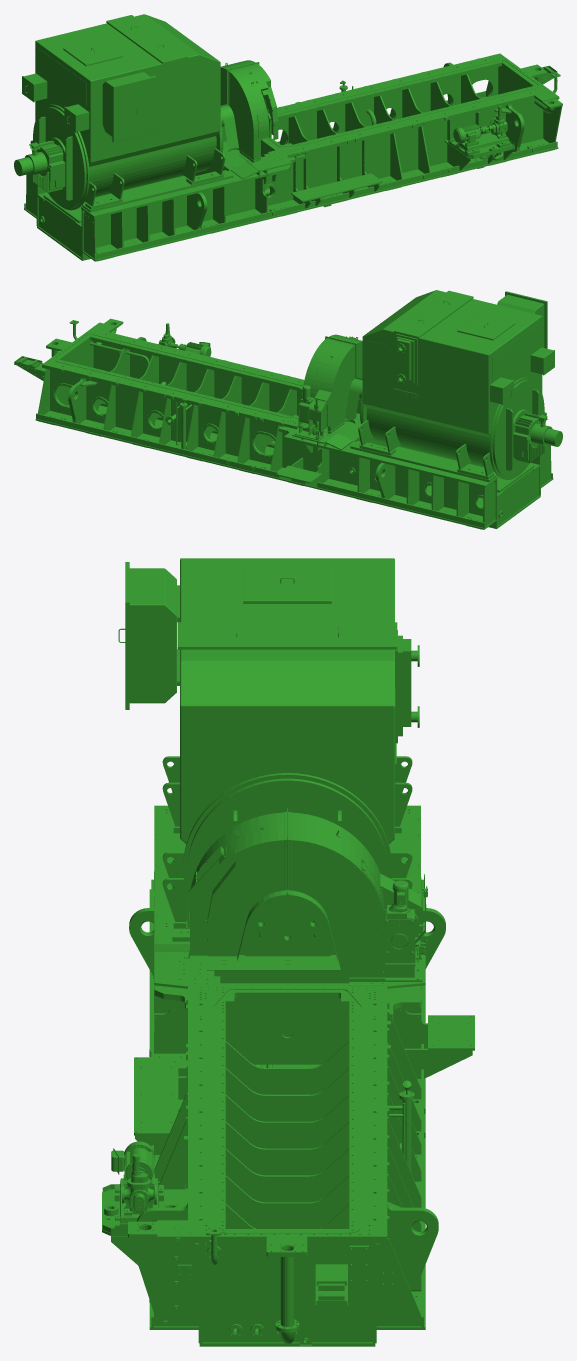
File: Generator&CommonBed.glb
The picture shows the model from 3 angles, top to bottom: view 1: azimuth 30°, elevation 25°; view 2: azimuth 150°, elevation 25°; view 3: azimuth 270°, elevation 25°; orthographic projection. The views are drawn at different scales.
Visible parts, largest first — view 1: CommonBed, Generator, CoverFlywheel, LOPrimmingPump; view 2: CommonBed, Generator, CoverFlywheel, TurningDevice, LOPrimmingPump; view 3: CommonBed, Generator, CoverFlywheel, TurningDevice, LOPrimmingPump.
Boxes of the visible parts, bbox=[...] form: CommonBed: bbox=[24, 53, 562, 261]; Generator: bbox=[14, 14, 225, 210]; CoverFlywheel: bbox=[220, 60, 278, 164]; LOPrimmingPump: bbox=[453, 105, 509, 151]; CommonBed: bbox=[14, 318, 553, 529]; Generator: bbox=[358, 290, 562, 479]; CoverFlywheel: bbox=[302, 334, 362, 435]; TurningDevice: bbox=[294, 385, 325, 440]; LOPrimmingPump: bbox=[158, 323, 211, 356]; CommonBed: bbox=[102, 805, 474, 1346]; Generator: bbox=[118, 558, 419, 956]; CoverFlywheel: bbox=[184, 808, 422, 985]; TurningDevice: bbox=[383, 874, 427, 981]; LOPrimmingPump: bbox=[111, 1141, 163, 1225].
Size of the model in its own units: 10.19 by 3.35 by 3.11.
